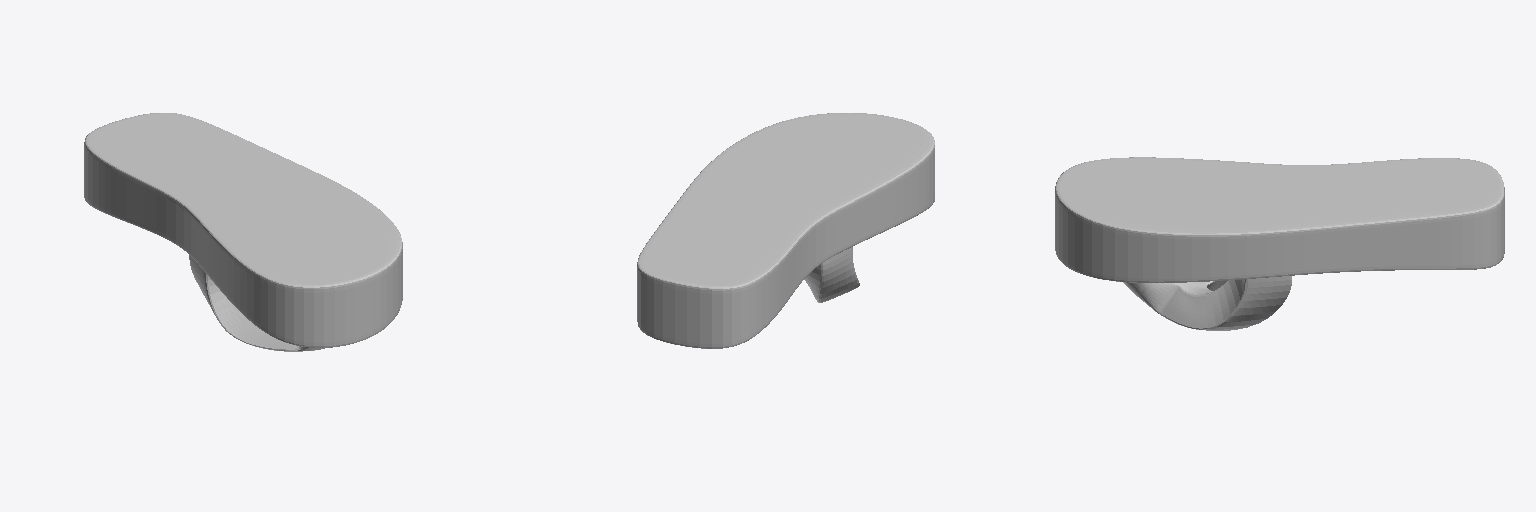
File: flipflop.obj
3 renders of one model, left to right at view 1: azimuth 30°, elevation 25°; view 2: azimuth 150°, elevation 25°; view 3: azimuth 270°, elevation 25°, orthographic.
Parts seen in each view (by area): view 1: 19466_Flip_flop; view 2: 19466_Flip_flop; view 3: 19466_Flip_flop.
Part boxes in pixels (x1,y1,x2,y2): 19466_Flip_flop: (84,113,402,351); 19466_Flip_flop: (637,113,934,348); 19466_Flip_flop: (1055,157,1504,330).
Bounding box in the file's own units: 1.31 × 0.9479 × 3.18.